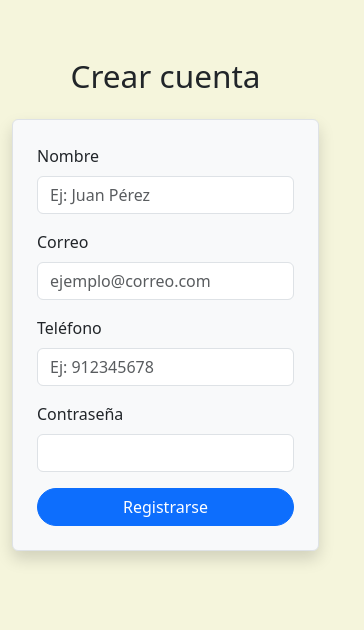
Componente registro › Muestra mensaje de error si los campos estan vacios
Click the button "Registrarse". click: (166, 507)
box: left=37, top=488, right=294, bottom=526
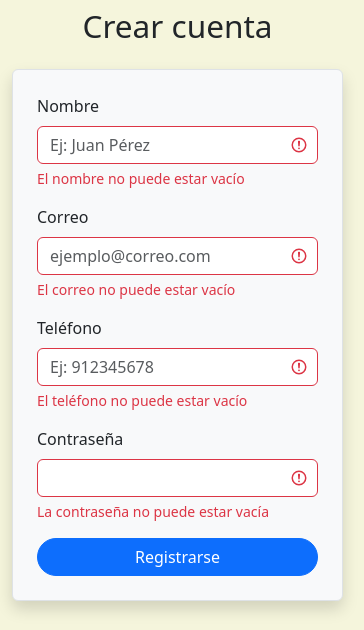
Check: the text "El nombre no puede estar vacío" is shown, box left=37, top=169, right=245, bottom=188
